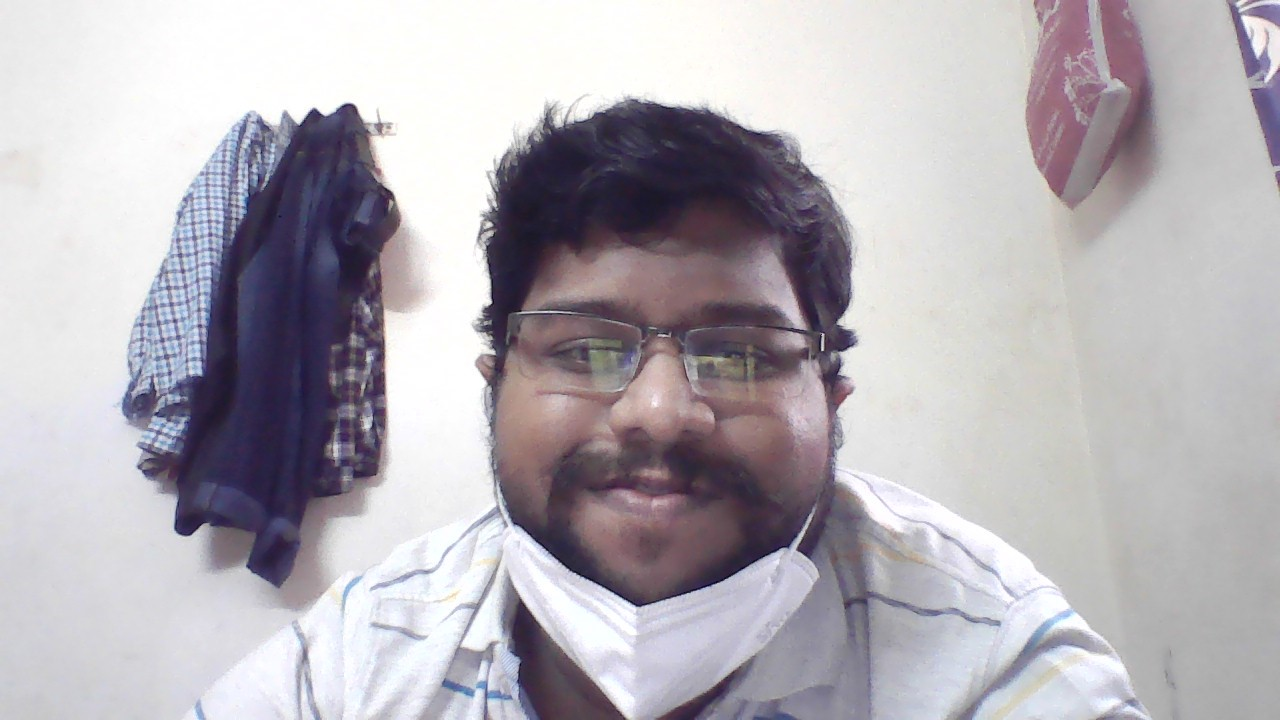NoMask: (441, 353, 886, 580)
